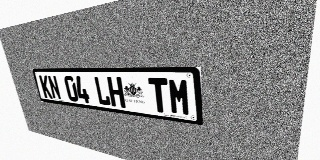0: (63, 76, 79, 102)
4: (74, 76, 90, 103)
H: (107, 77, 126, 108)
K: (39, 75, 53, 99)
L: (93, 76, 111, 106)
M: (168, 78, 191, 116)
N: (47, 75, 62, 100)
T: (148, 78, 170, 114)
